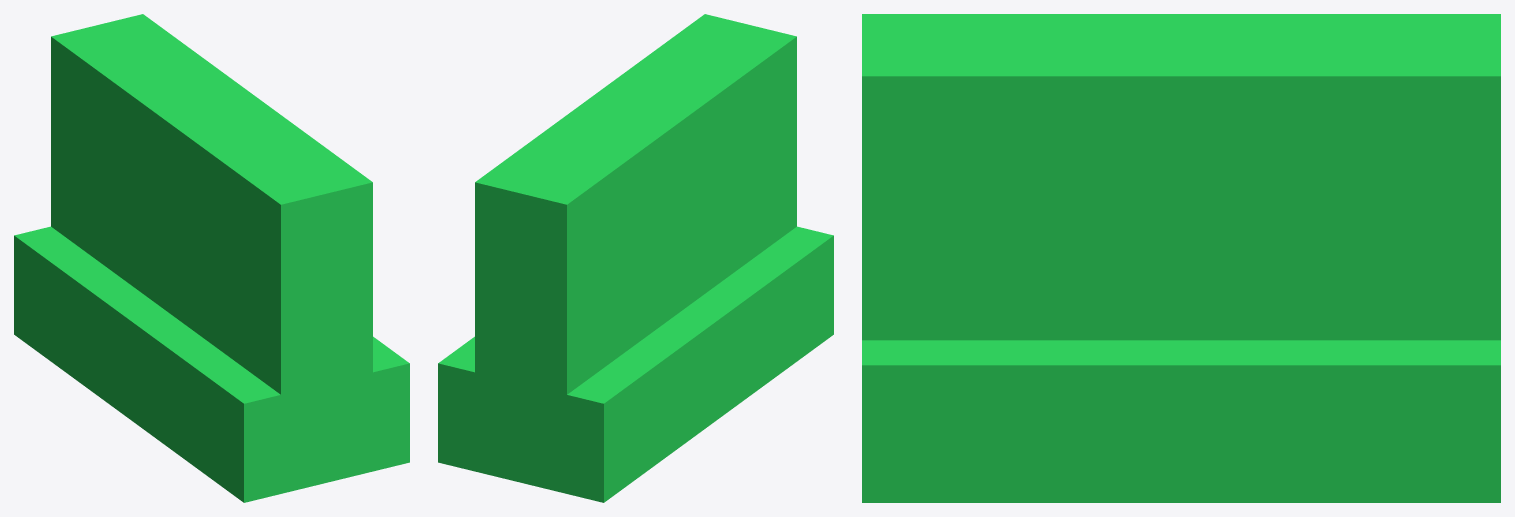
Rendered from wallV6.glb.
The picture shows the model from 3 angles, left to right: view 1: azimuth 30°, elevation 25°; view 2: azimuth 150°, elevation 25°; view 3: azimuth 270°, elevation 25°; orthographic projection. The views are drawn at different scales.
Visible parts, largest first — view 1: wall; view 2: wall; view 3: wall.
Part boxes in pixels (x1,y1,x2,y2): wall: (14,14,409,502); wall: (438,14,833,502); wall: (862,14,1500,502).
Bounding box in the file's own units: 3.6 × 6 × 8.65.
